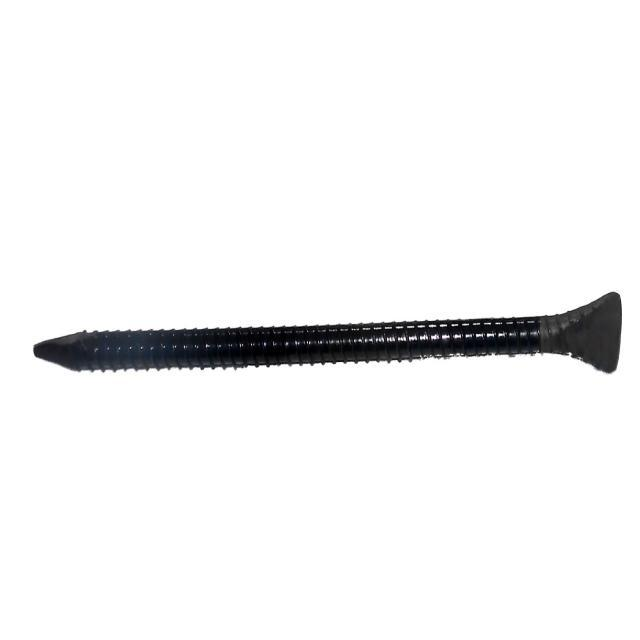Linggis: (27, 295, 626, 403)
